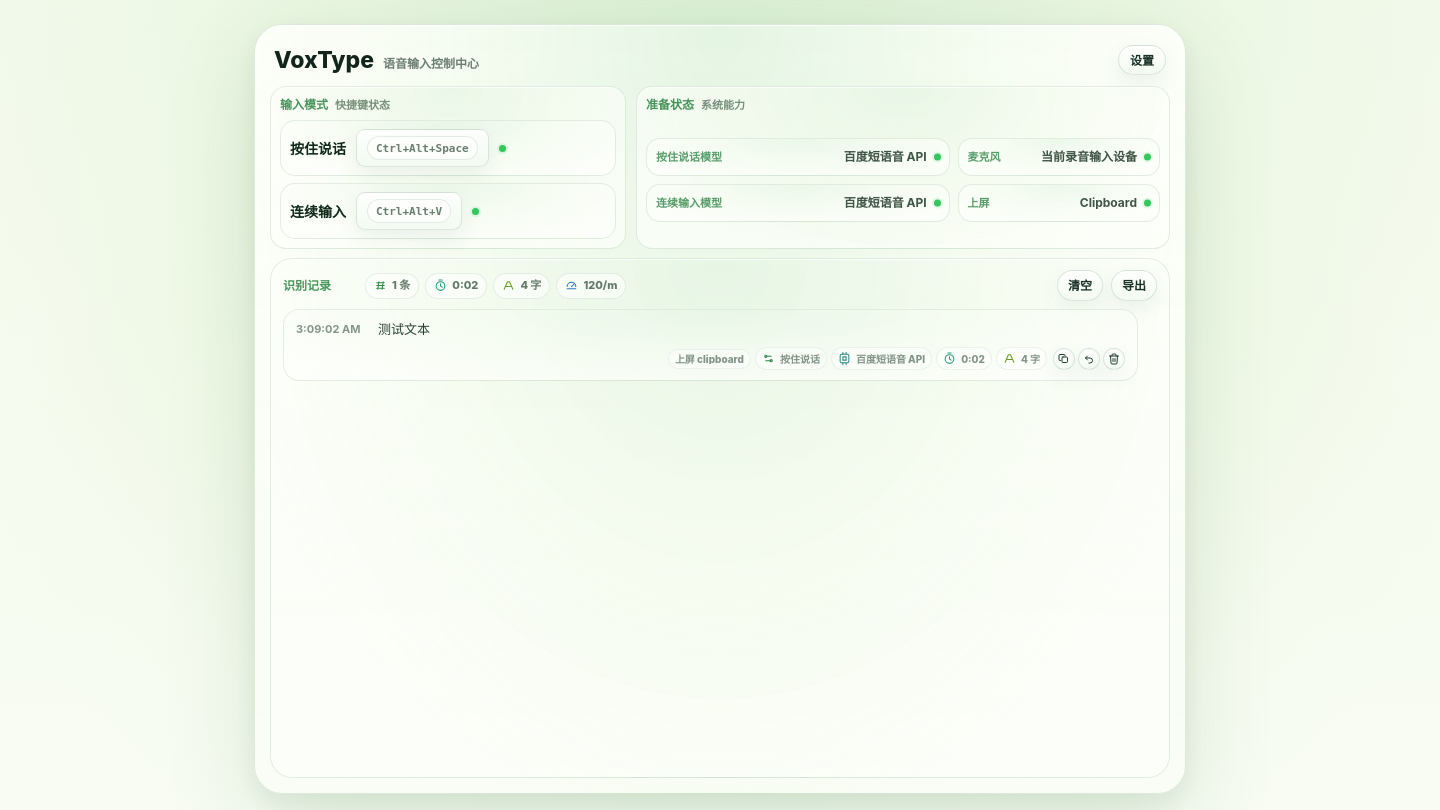
Test: App › shows visible feedback when exporting transcript records
Expected: the text "Ctrl+Alt+Space" is shown, [367, 136, 478, 160]
Expected: the text "测试文本" is shown, [378, 321, 430, 337]
Click the button with aria-label "导出识别记录" at (1134, 286), box [1111, 270, 1157, 301]
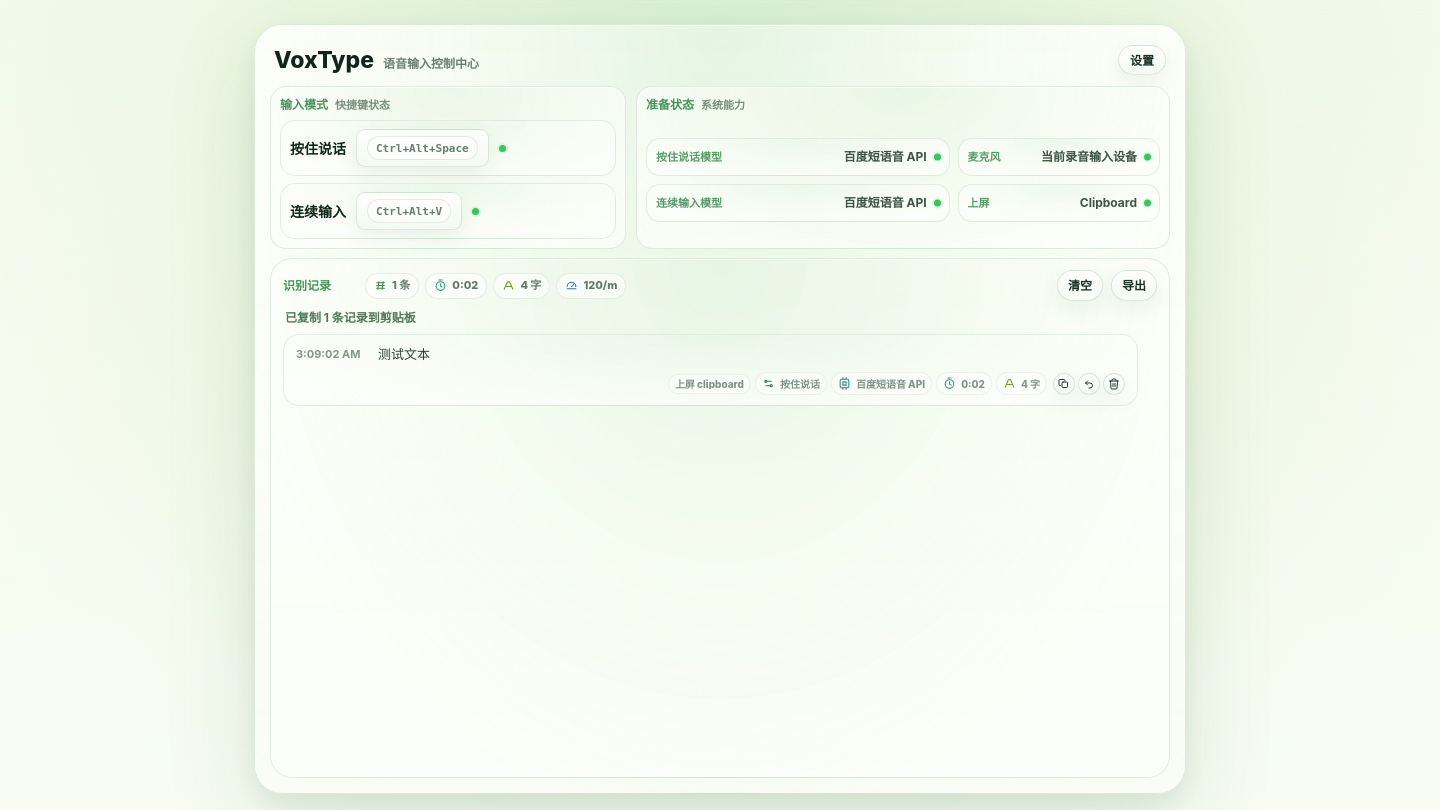
Now the text "已复制 1 条记录到剪贴板" is shown, box [283, 309, 418, 326]
